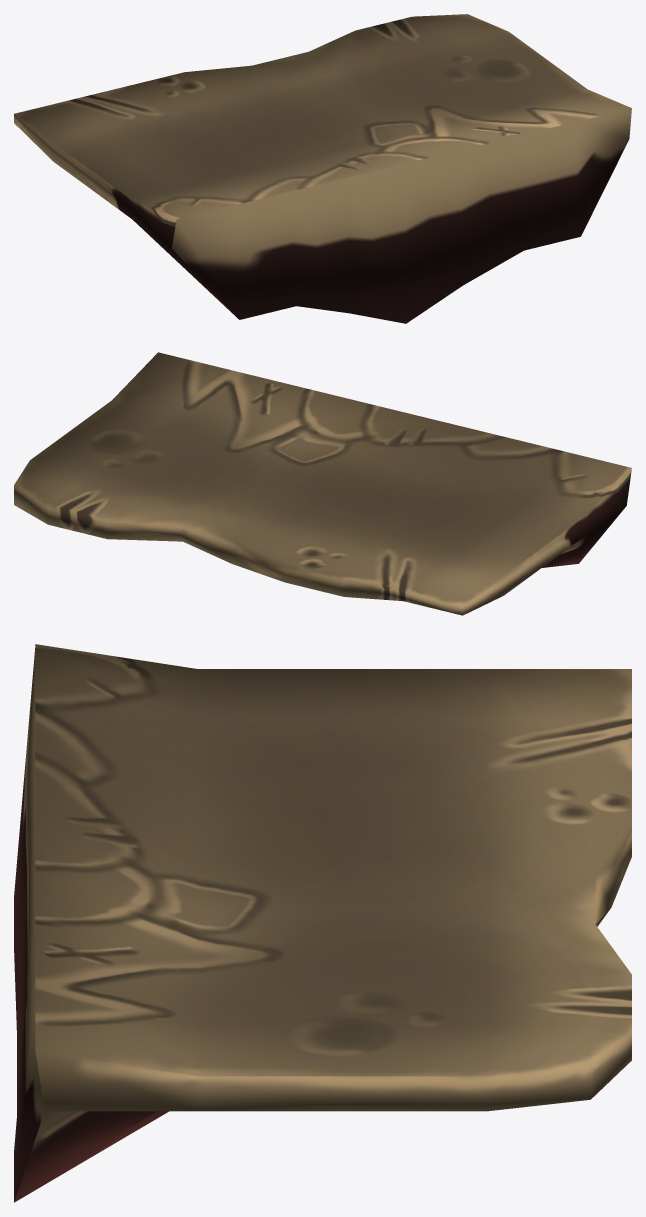
File: Platform.fbx
The picture shows the model from 3 angles, top to bottom: view 1: azimuth 30°, elevation 25°; view 2: azimuth 150°, elevation 25°; view 3: azimuth 270°, elevation 25°; orthographic projection. The views are drawn at different scales.
Parts seen in each view (by area): view 1: Cube.001; view 2: Cube.001; view 3: Cube.001.
Boxes of the visible parts, x1,y1,x2,y2 form: Cube.001: (14,14,631,323); Cube.001: (14,352,631,615); Cube.001: (14,644,631,1202).
Bounding box in the file's own units: 500 × 163 × 321.
